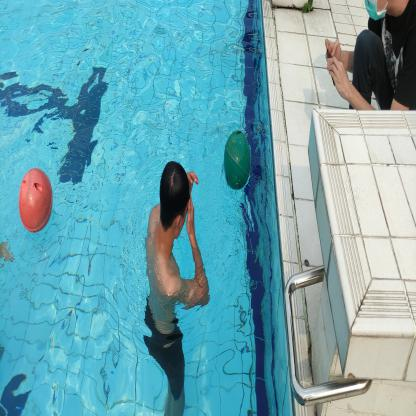green_buoy: (222, 128, 252, 192)
red_buoy: (18, 164, 54, 235)
